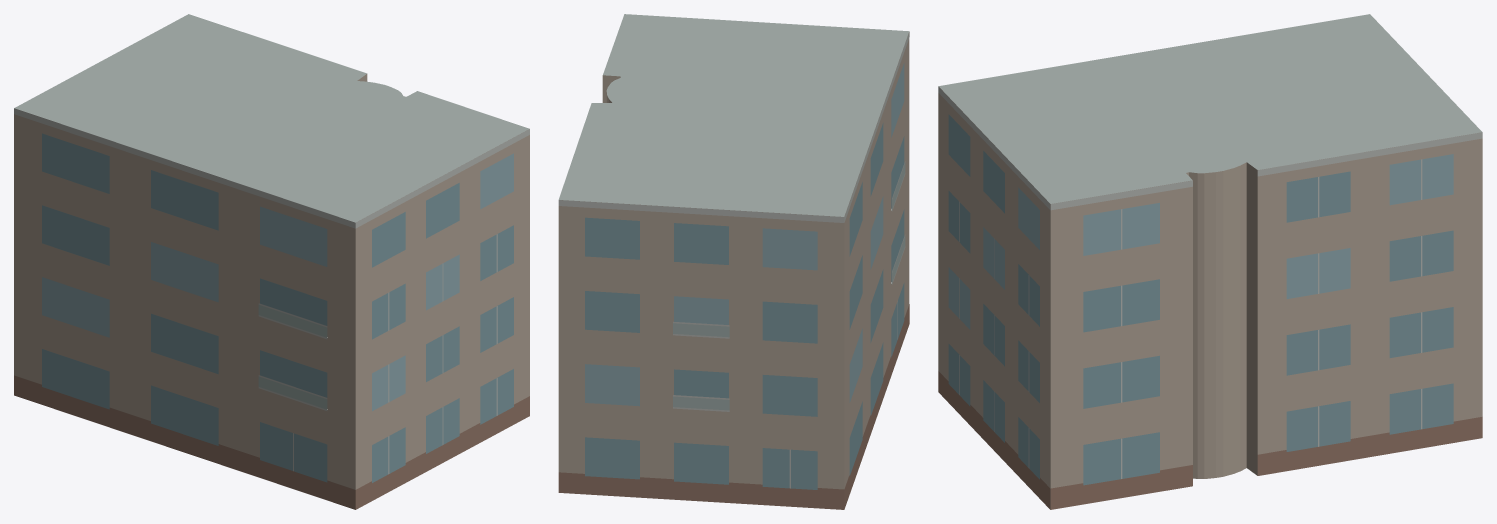
Rendered from survey-upis-32942604.glb.
3 views of the same model, side by side, from view 1: azimuth 30°, elevation 25°; view 2: azimuth 150°, elevation 25°; view 3: azimuth 270°, elevation 25° (orthographic). The views are drawn at different scales.
Parts seen in each view (by area): view 1: survey-upis-32942604.tmp; view 2: survey-upis-32942604.tmp; view 3: survey-upis-32942604.tmp.
Boxes of the visible parts, <box> form: survey-upis-32942604.tmp: <box>14,14,529,509</box>; survey-upis-32942604.tmp: <box>558,14,909,509</box>; survey-upis-32942604.tmp: <box>938,14,1482,509</box>.
Bounding box in the file's own units: 15.6 × 11.7 × 18.87.
